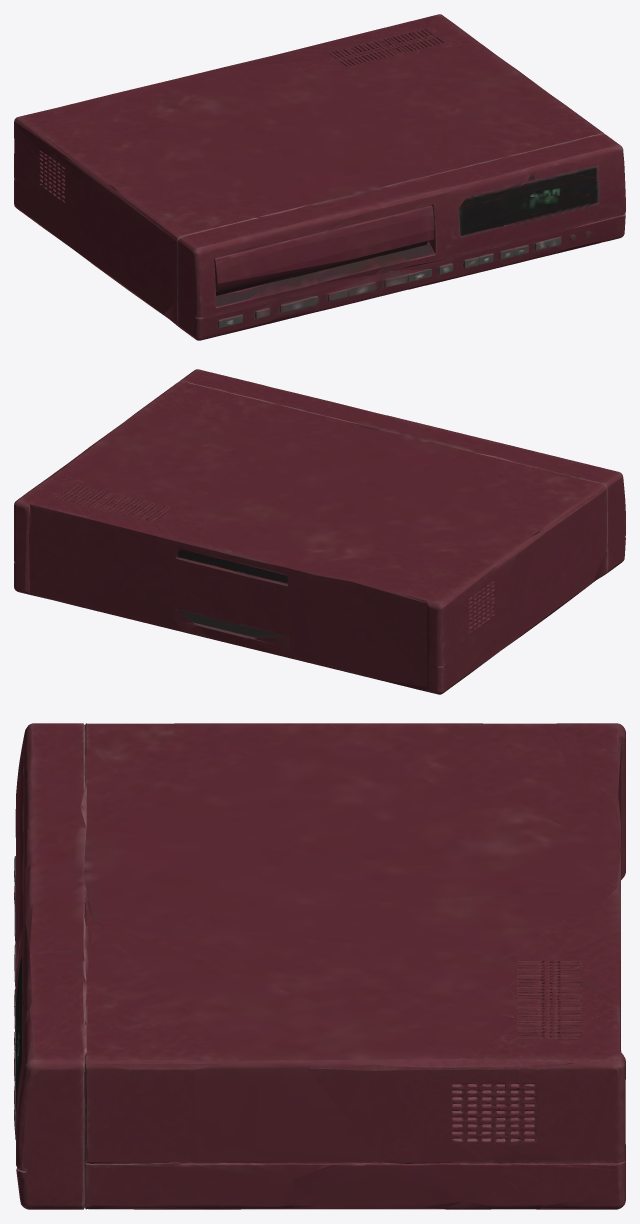
File: videoregistratore.glb
3 renders of one model, top to bottom at view 1: azimuth 30°, elevation 25°; view 2: azimuth 150°, elevation 25°; view 3: azimuth 270°, elevation 25°, orthographic. The views are drawn at different scales.
Parts seen in each view (by area): view 1: Mesh_0; view 2: Mesh_0; view 3: Mesh_0.
Boxes of the visible parts, x1,y1,x2,y2 form: Mesh_0: [14, 14, 625, 340]; Mesh_0: [14, 369, 625, 694]; Mesh_0: [14, 723, 625, 1209].
Bounding box in the file's own units: 1.9 × 0.3889 × 1.44.
1 material, 1 textured.
